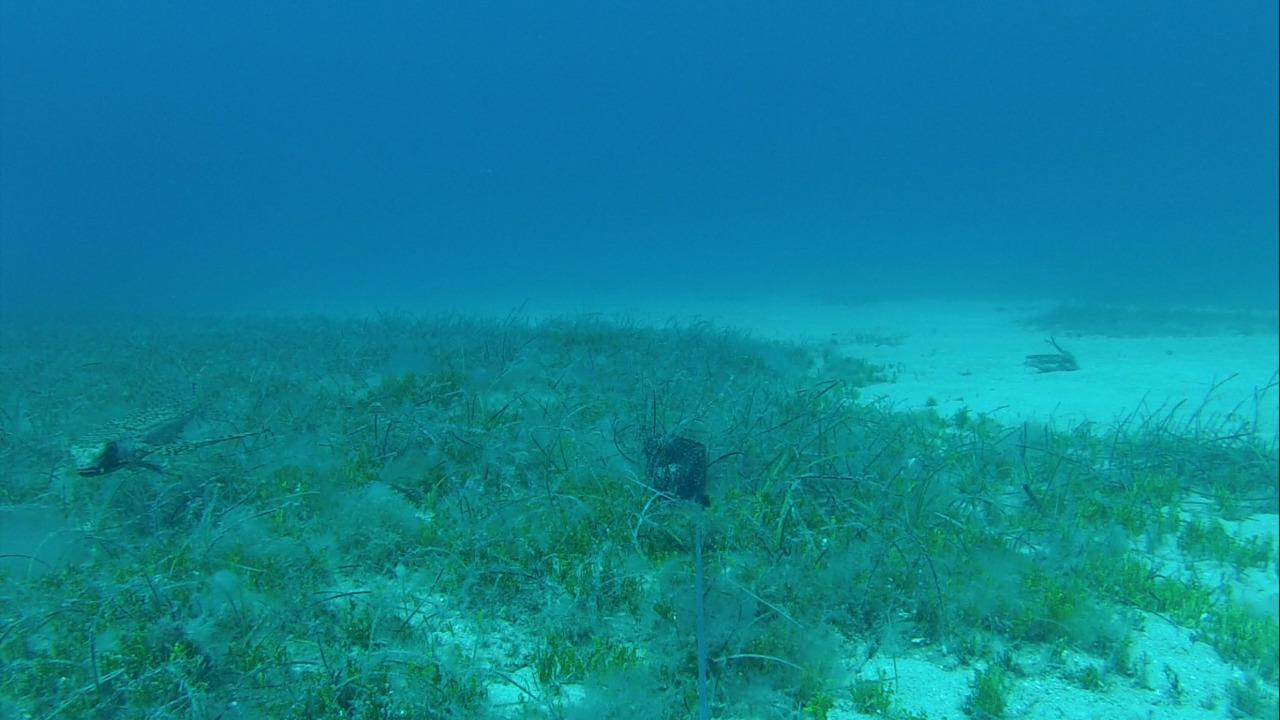dactylopterus: (65, 380, 277, 475)
